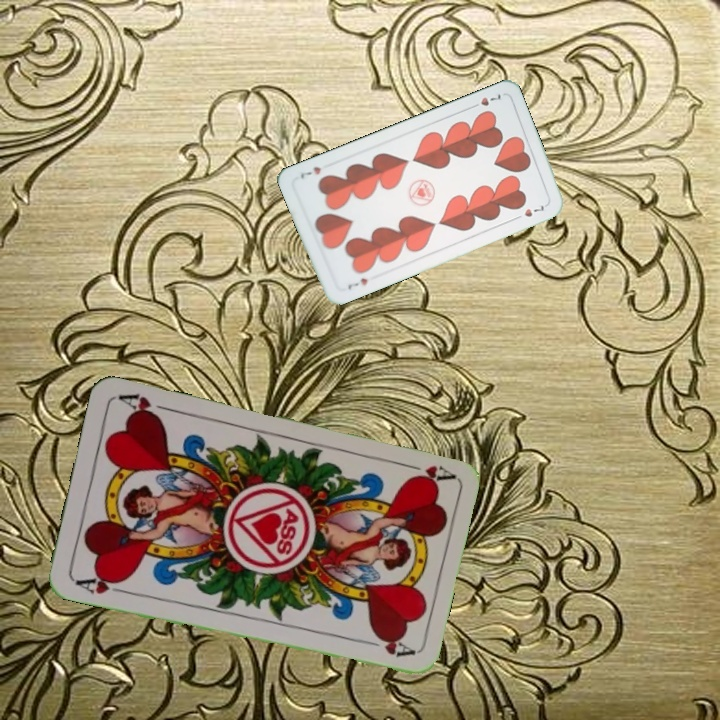H7: (466, 89, 505, 111), (344, 274, 370, 292)
HA: (397, 458, 455, 487), (71, 570, 130, 597)
